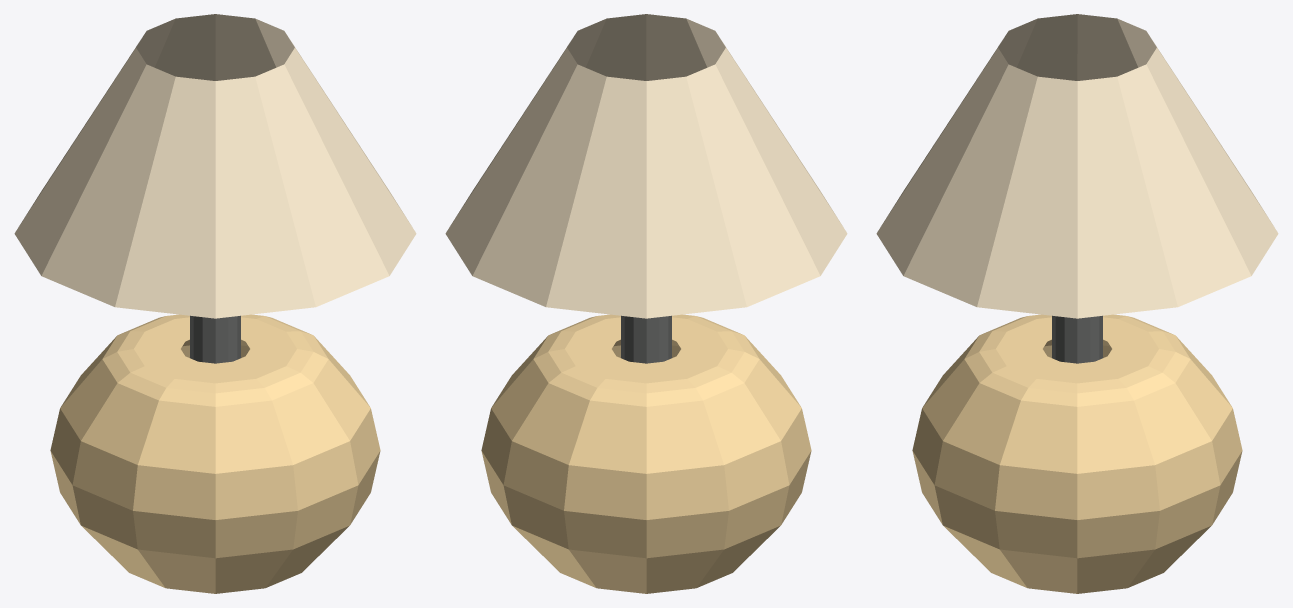
File: LamparaMesa.fbx
3 renders of one model, left to right at view 1: azimuth 30°, elevation 25°; view 2: azimuth 150°, elevation 25°; view 3: azimuth 270°, elevation 25°, orthographic.
Visible parts, largest first — view 1: LamparaMesa; view 2: LamparaMesa; view 3: LamparaMesa.
Part boxes in pixels (x1,y1,x2,y2): LamparaMesa: (14,14,416,593); LamparaMesa: (445,14,847,593); LamparaMesa: (876,14,1278,593).
Size of the model in its own units: 61.55 by 85.17 by 61.55.
